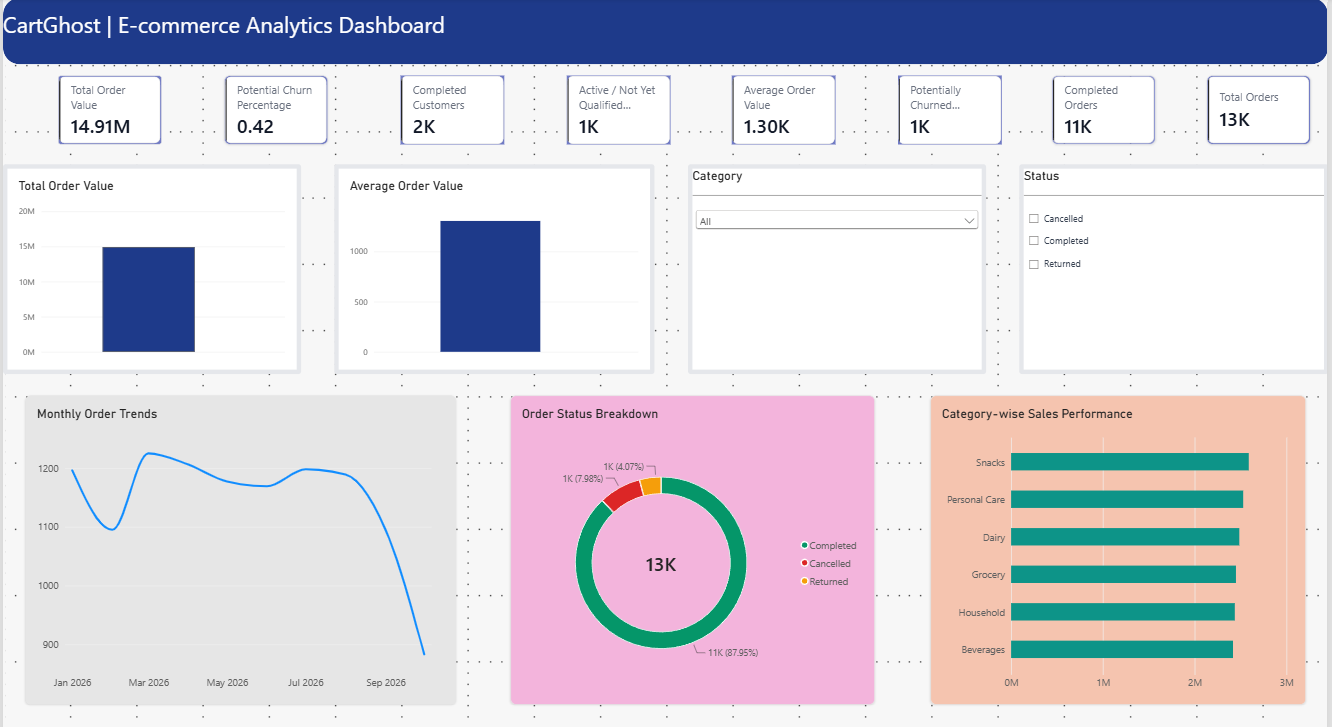

The dashboard page shown, as its layout file describes it:
{"tool":"powerbi","page":{"name":"Page 1","canvas":[1920,1080],"ordinal":0},"visuals":[{"type":"lineChart","title":"Monthly Order Trends","fields":{"Category":["Orders.order_date.Variation.Date Hierarchy.Year","Orders.order_date.Variation.Date Hierarchy.Month"],"Y":["Orders.Completed Orders"]},"box":[32,576,624,448],"z":6000},{"type":"clusteredBarChart","title":"Category-wise Sales Performance","fields":{"Category":["Orders.category"],"Y":["Orders.Total Order Value"]},"box":[1344,576,544,448],"z":7000},{"type":"donutChart","title":"Order Status Breakdown","fields":{"Category":["Orders.status"],"Y":["Orders.Total Orders"]},"box":[736,576,528,448],"z":8000},{"type":"cardVisual","title":"Customer Churn Overview","fields":{"Data":["Orders.Potentially Churned Customers"]},"box":[1296,112,150,100],"z":9000},{"type":"clusteredColumnChart","fields":{"Y":["Orders.Total Order Value"]},"box":[0,240,432,304],"z":13000},{"type":"clusteredColumnChart","fields":{"Y":["Orders.Average Order Value"]},"box":[480,240,464,304],"z":14000},{"type":"slicer","title":"Category","fields":{"Values":["Orders.category"]},"box":[992,240,432,304],"z":14500},{"type":"slicer","title":"Status","fields":{"Values":["Orders.status"]},"box":[1472,240,448,304],"z":15000},{"type":"shape","box":[0,0,1920,96],"z":15250},{"type":"textbox","box":[0,16,944,64],"z":15500},{"type":"cardVisual","fields":{"Data":["Orders.Active / Not Yet Qualified Customers"]},"box":[816,112,150,100],"z":15507},{"type":"cardVisual","fields":{"Data":["Orders.Total Orders"]},"box":[1744,112,150,100],"z":15515},{"type":"cardVisual","fields":{"Data":["Orders.Completed Orders"]},"box":[1520,112,150,100],"z":15531},{"type":"cardVisual","fields":{"Data":["Orders.Total Order Value"]},"box":[80,112,150,100],"z":15562},{"type":"cardVisual","fields":{"Data":["Orders.Average Order Value"]},"box":[1056,112,150,100],"z":15625},{"type":"cardVisual","fields":{"Data":["Orders.Completed Customers"]},"box":[576,112,150,100],"z":15750},{"type":"cardVisual","fields":{"Data":["Orders.Potential Churn Percentage"]},"box":[320,112,150,100],"z":16000}]}

Visuals, with their boxes on the page's 1920x1080 design canvas (x1, y1, x2, y2). These are canvas units, not pixel positions in the 1332x727 screenshot, which may show the page scaled, cropped or inside an application window:
"Monthly Order Trends" lineChart: rect(32, 576, 656, 1024)
"Category-wise Sales Performance" clusteredBarChart: rect(1344, 576, 1888, 1024)
"Order Status Breakdown" donutChart: rect(736, 576, 1264, 1024)
"Customer Churn Overview" cardVisual: rect(1296, 112, 1446, 212)
clusteredColumnChart - Orders.Total Order Value: rect(0, 240, 432, 544)
clusteredColumnChart - Orders.Average Order Value: rect(480, 240, 944, 544)
"Category" slicer: rect(992, 240, 1424, 544)
"Status" slicer: rect(1472, 240, 1920, 544)
shape: rect(0, 0, 1920, 96)
textbox: rect(0, 16, 944, 80)
cardVisual - Orders.Active / Not Yet Qualified Customers: rect(816, 112, 966, 212)
cardVisual - Orders.Total Orders: rect(1744, 112, 1894, 212)
cardVisual - Orders.Completed Orders: rect(1520, 112, 1670, 212)
cardVisual - Orders.Total Order Value: rect(80, 112, 230, 212)
cardVisual - Orders.Average Order Value: rect(1056, 112, 1206, 212)
cardVisual - Orders.Completed Customers: rect(576, 112, 726, 212)
cardVisual - Orders.Potential Churn Percentage: rect(320, 112, 470, 212)
